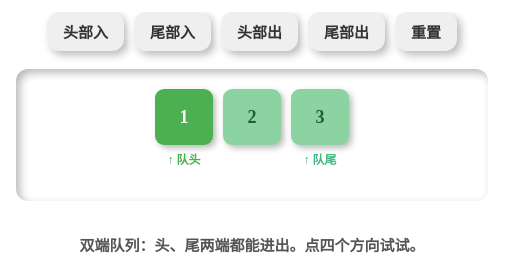
it: DequeViz 双端队列互动 › TC-VIZ-DEQUEVIZ-08 重置回 3 dqitem
The image size is (505, 270).
Click the button "尾部入": (172, 32) [134, 12, 211, 51]
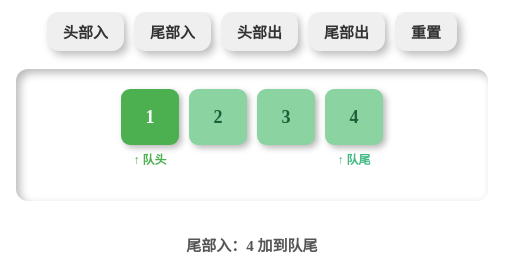
Click the button "重置": (426, 32) [395, 12, 457, 51]
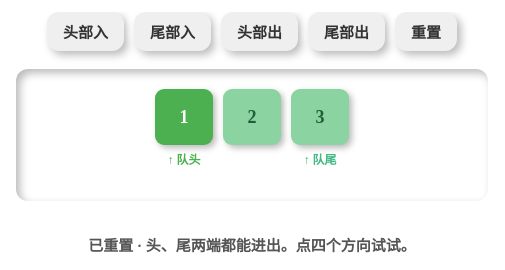
Expected: the number of elements with class "dqitem" is 3, [155, 89, 213, 145]; [223, 89, 281, 145]; [291, 89, 349, 145]
